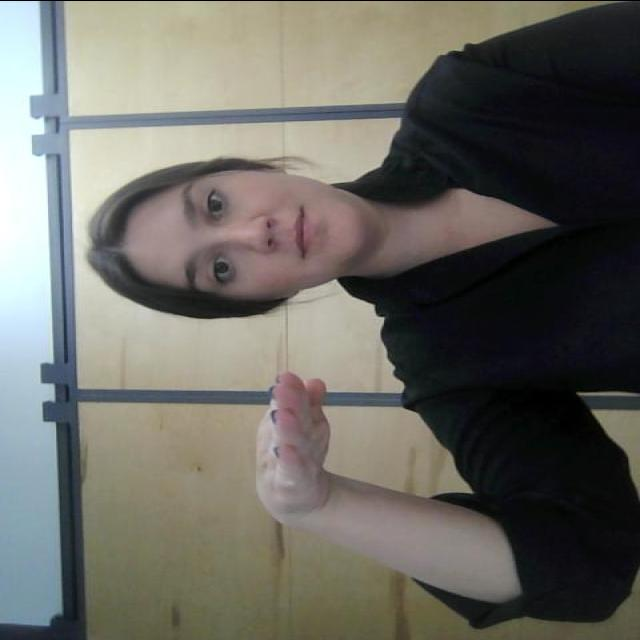Paper: (239, 359, 369, 534)
